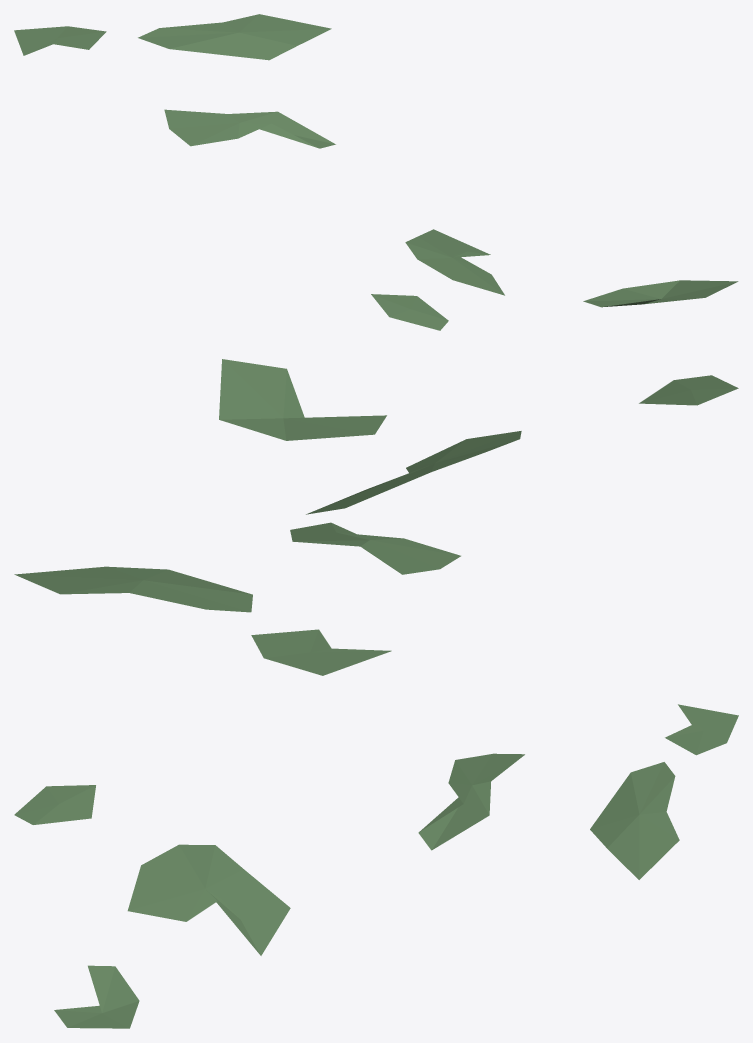
The model's file is c_1668_17815_forest.glb.
The picture shows the model from 3 angles, top to bottom: view 1: azimuth 30°, elevation 25°; view 2: azimuth 150°, elevation 25°; view 3: azimuth 270°, elevation 25°; orthographic projection. The views are drawn at different scales.
Visible parts, largest first — view 1: geometry_0; view 2: geometry_0; view 3: geometry_0.
Boxes of the visible parts, x1,y1,x2,y2 form: geometry_0: (14, 14, 738, 330); geometry_0: (14, 359, 738, 675); geometry_0: (14, 704, 738, 1028).
Bounding box in the file's own units: 167 × 48.33 × 243.
